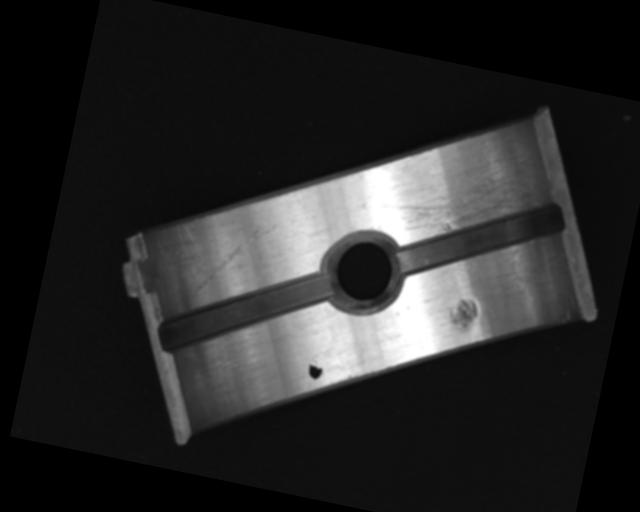blot: (306, 362, 324, 381)
bruise: (446, 295, 480, 332)
gap: (153, 242, 334, 381), (393, 173, 569, 300)
hole: (316, 222, 409, 320)
nick: (190, 208, 278, 309)
scratch: (374, 121, 551, 257)
